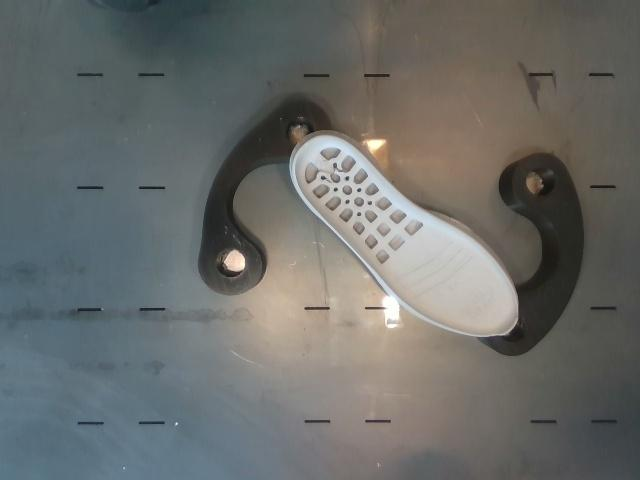shoes: (295, 137, 517, 334)
